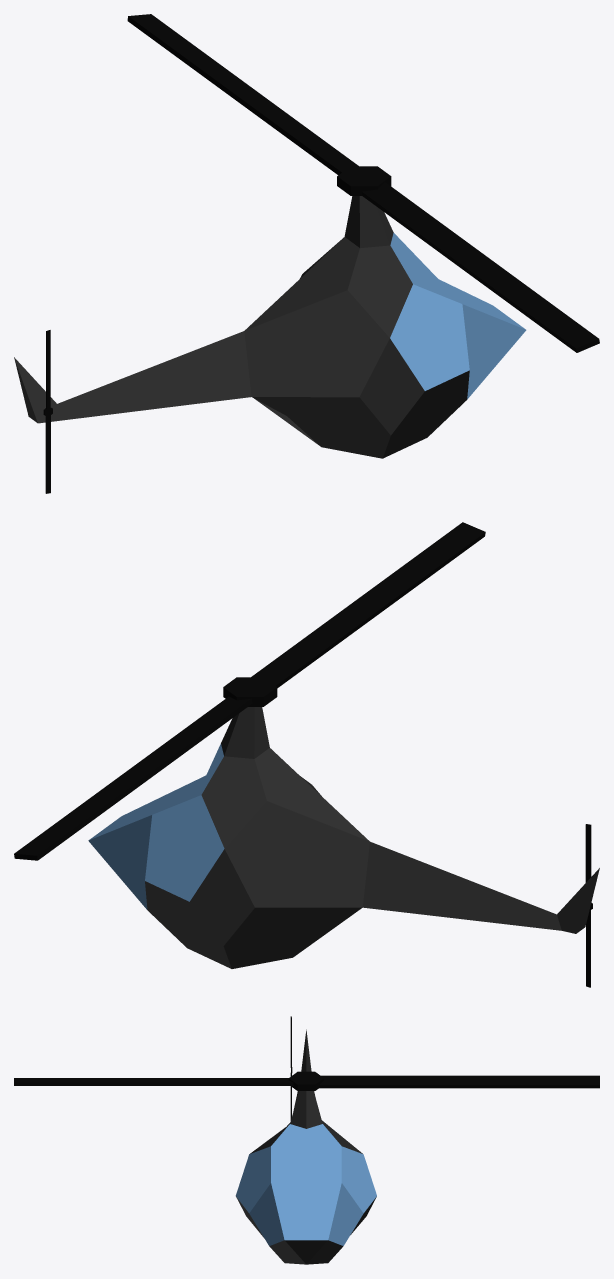
Rendered from Helicopter.fbx.
3 views of the same model, one above another, from view 1: azimuth 30°, elevation 25°; view 2: azimuth 150°, elevation 25°; view 3: azimuth 270°, elevation 25° (orthographic). The views are drawn at different scales.
Parts seen in each view (by area): view 1: Body, Rotor, BackRotor; view 2: Body, Rotor, BackRotor; view 3: Body, Rotor.
Boxes of the visible parts, box(x1,y1,x2,y2) form: Body: box(14, 196, 526, 458); Rotor: box(127, 14, 599, 352); BackRotor: box(43, 330, 52, 493); Body: box(88, 707, 599, 968); Rotor: box(14, 522, 485, 860); BackRotor: box(585, 824, 592, 987); Body: box(235, 1029, 376, 1264); Rotor: box(14, 1071, 599, 1090).
Bounding box in the file's own units: 1057 × 531 × 1657.
